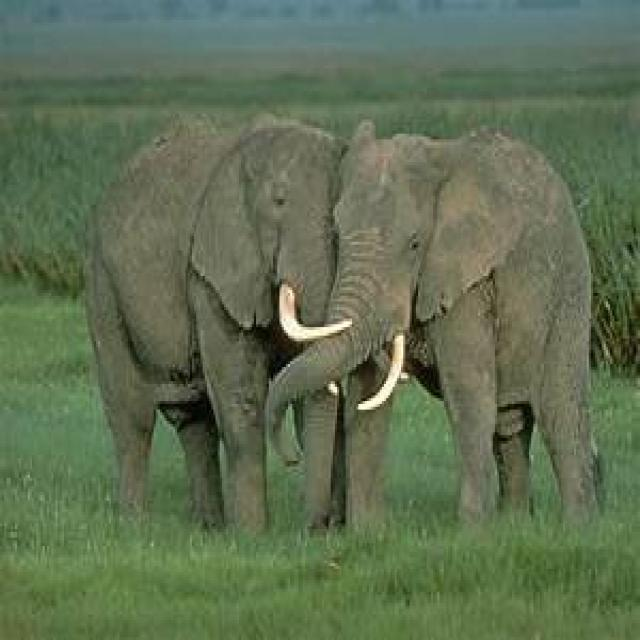elephant: (267, 119, 604, 532), (85, 122, 350, 540)
